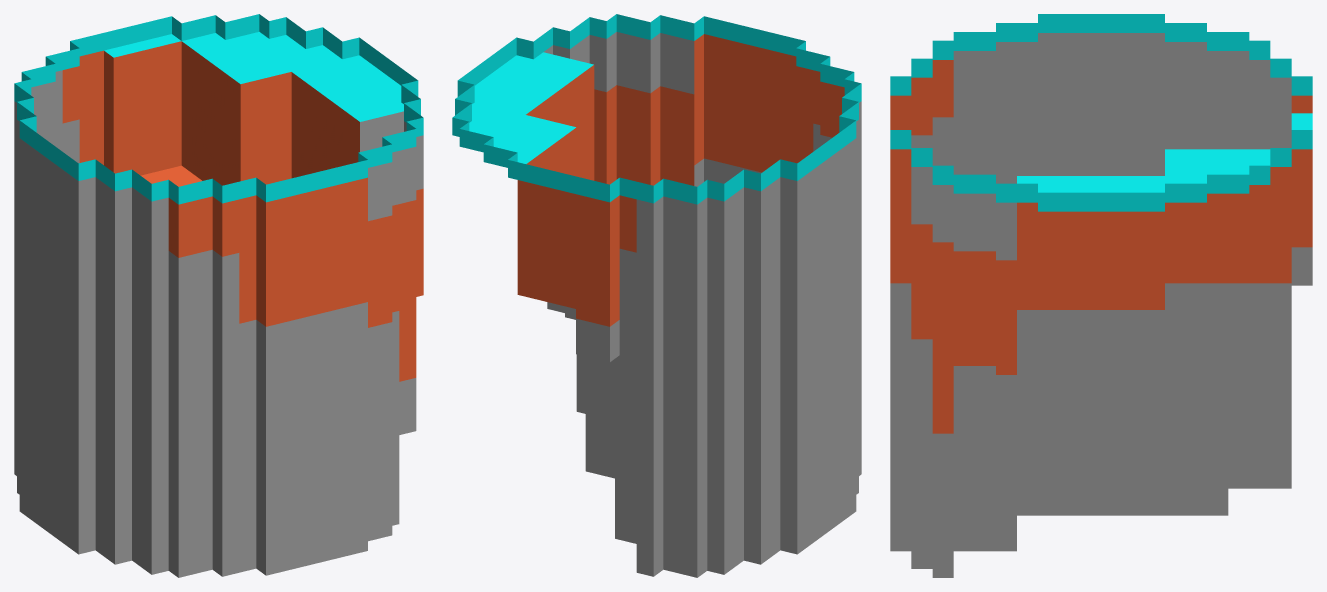
The model's file is Mine4-2.obj.
3 renders of one model, left to right at view 1: azimuth 30°, elevation 25°; view 2: azimuth 150°, elevation 25°; view 3: azimuth 270°, elevation 25°, orthographic. The views are drawn at different scales.
Bounding box in the file's own units: 2 × 2.2 × 2.
